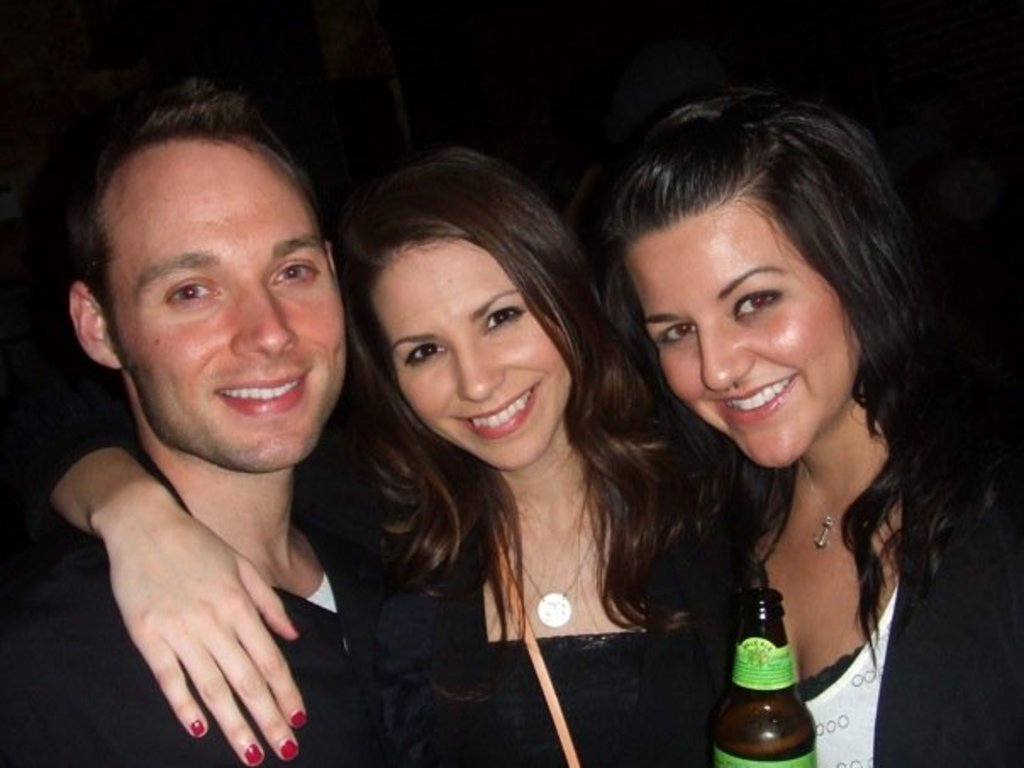can: (710, 588, 817, 768)
